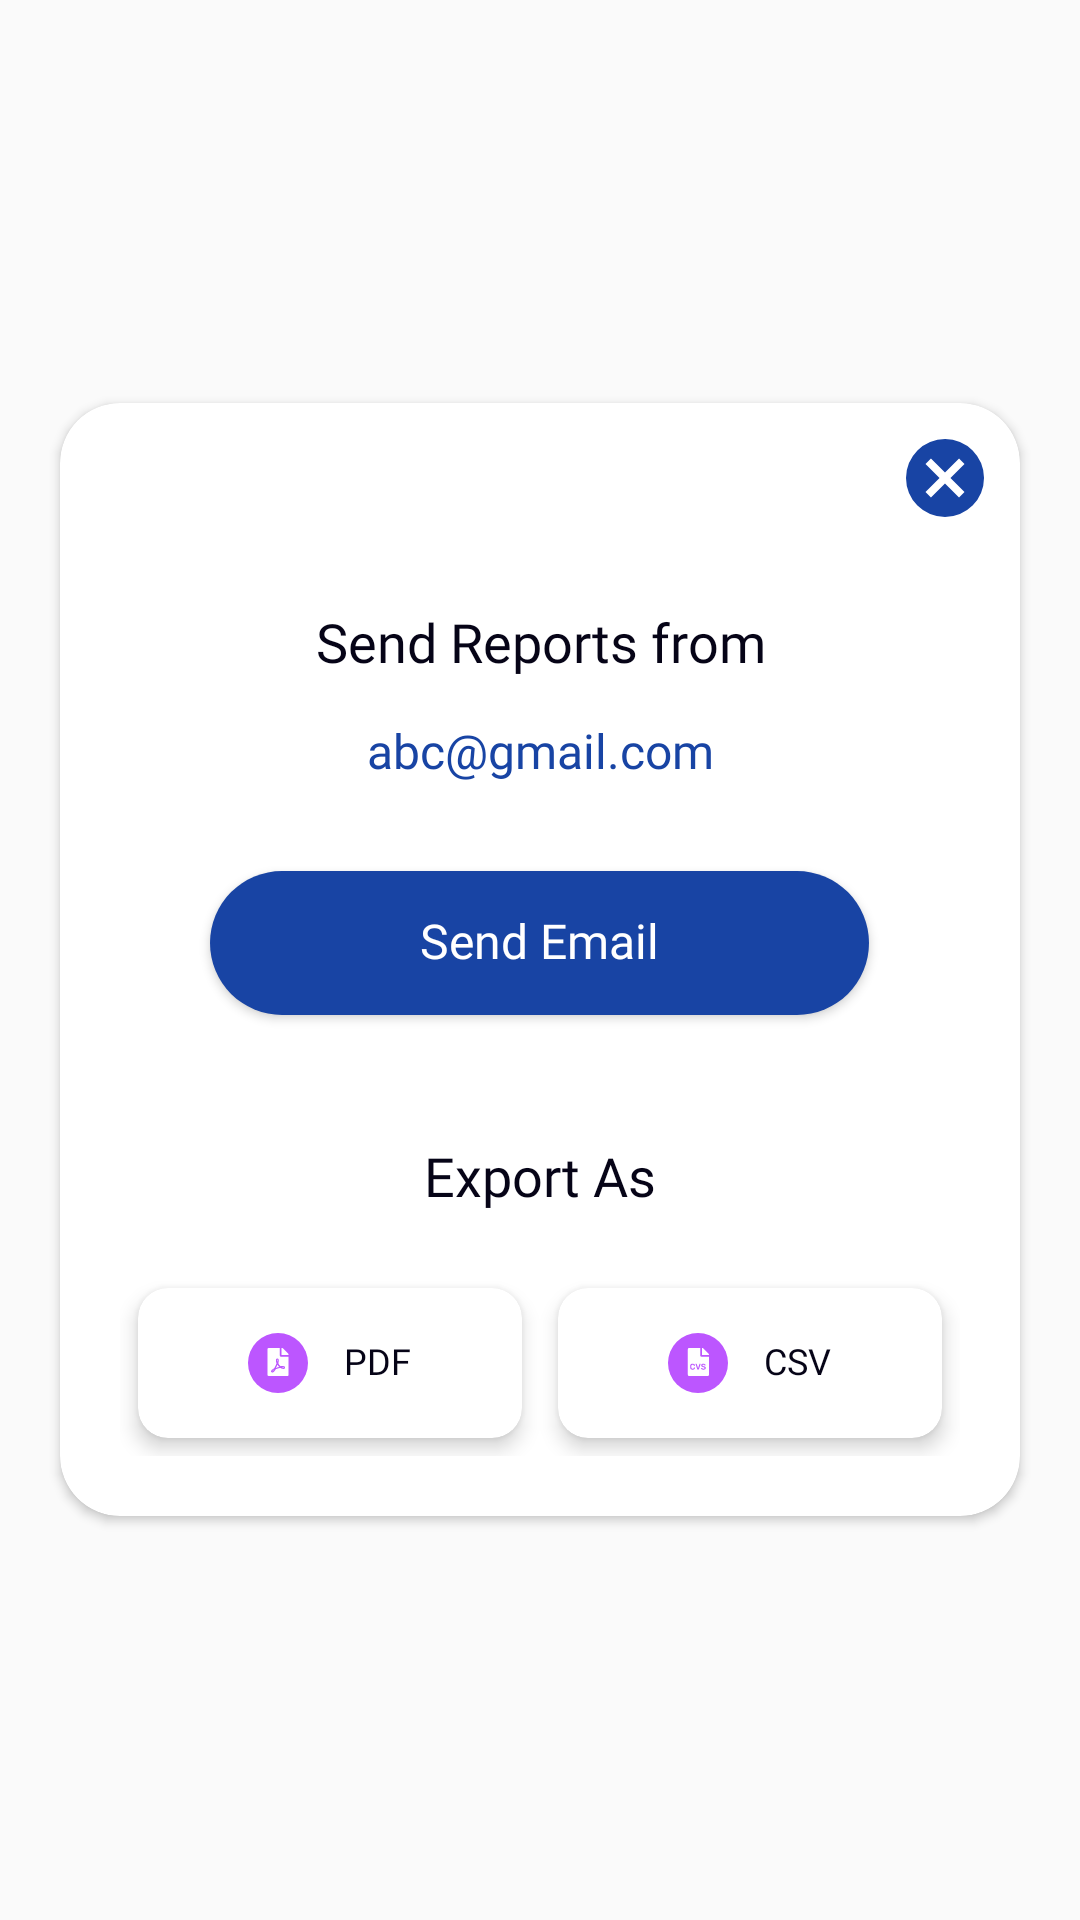

Icons on this 1080w x 1920h Android screen, each with the point to tap as (x=x, y=y):
close dialog: (x=957, y=465)
